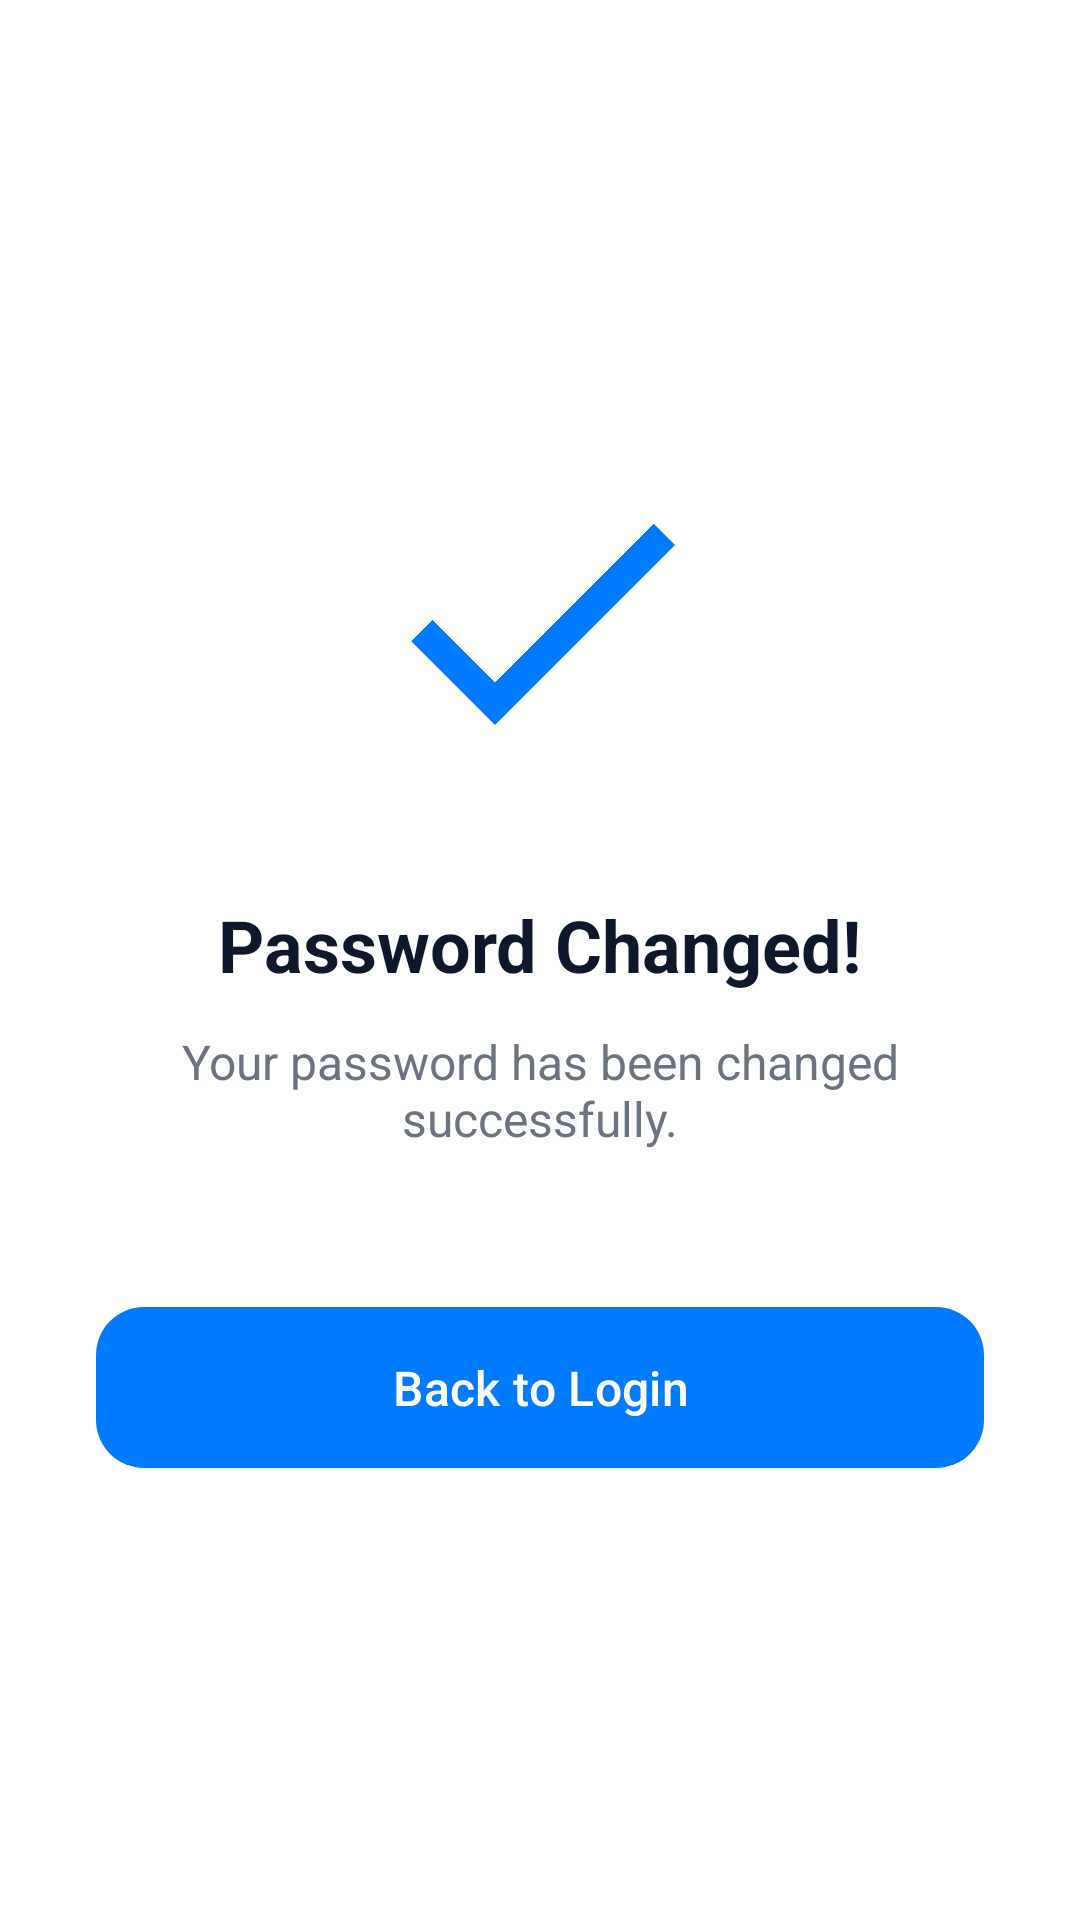

Named icons in this screenshot (1080w x 1920h) and their bounding boxes, {"left": x1, "top": y1, "right": x2, "bottom": y2}:
check: {"left": 411, "top": 524, "right": 675, "bottom": 725}
